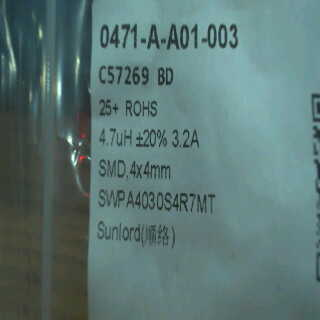4.7uH: (93, 127, 133, 151)
